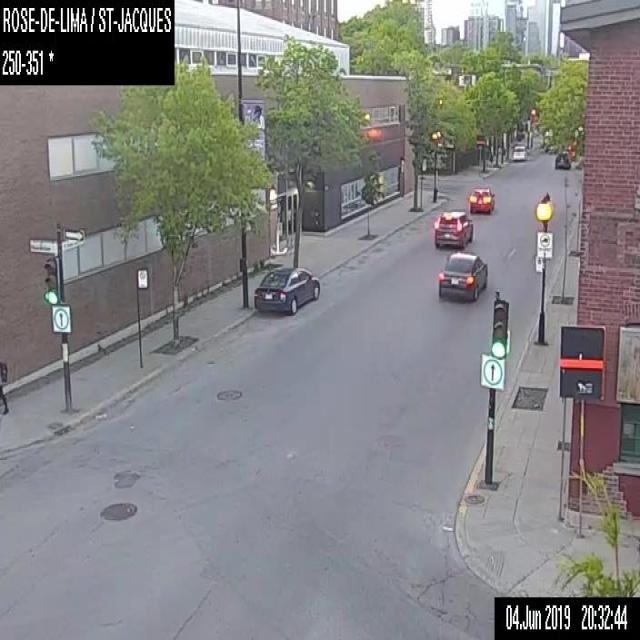pedestrian: (0, 360, 8, 415)
vehicle: (253, 263, 320, 313), (435, 248, 485, 302), (432, 210, 467, 248), (468, 185, 494, 210), (554, 152, 570, 168), (512, 143, 525, 160)
